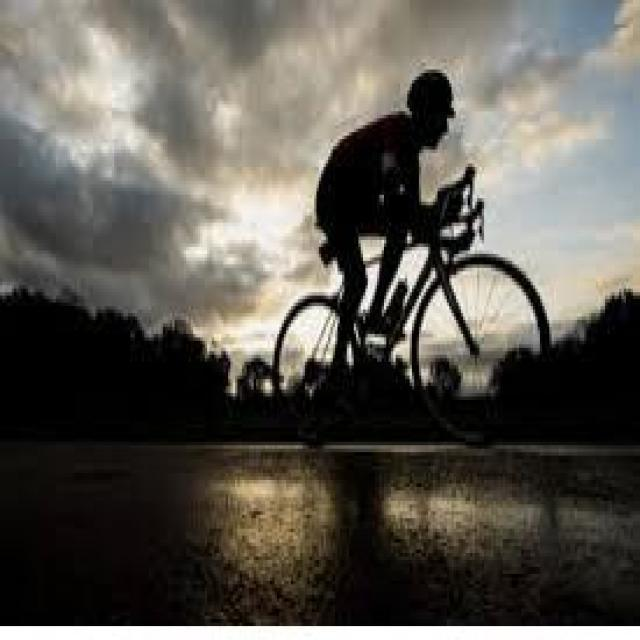bicycle: (276, 175, 544, 426)
